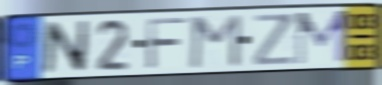2: (94, 18, 131, 72)
F: (144, 16, 191, 71)
M: (293, 8, 350, 68), (187, 12, 244, 70)
N: (40, 19, 91, 75)
Z: (252, 11, 297, 67)
